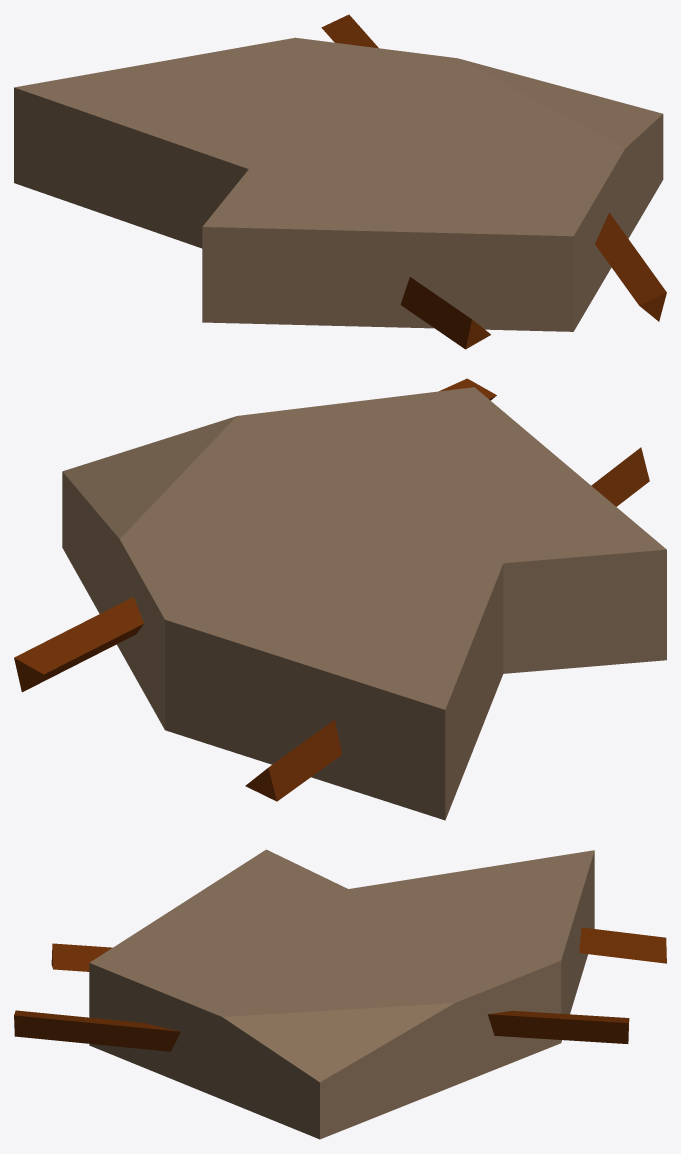
Rendered from LP_PostApoc_Rubble3.fbx.
3 views of the same model, one above another, from view 1: azimuth 30°, elevation 25°; view 2: azimuth 150°, elevation 25°; view 3: azimuth 270°, elevation 25° (orthographic). The views are drawn at different scales.
Parts seen in each view (by area): view 1: Rubble3; view 2: Rubble3; view 3: Rubble3.
Part boxes in pixels (bbox=[...]): Rubble3: bbox=[14, 14, 666, 349]; Rubble3: bbox=[14, 378, 666, 820]; Rubble3: bbox=[14, 849, 666, 1139].
Size of the model in its own units: 95.14 by 17.67 by 127.
